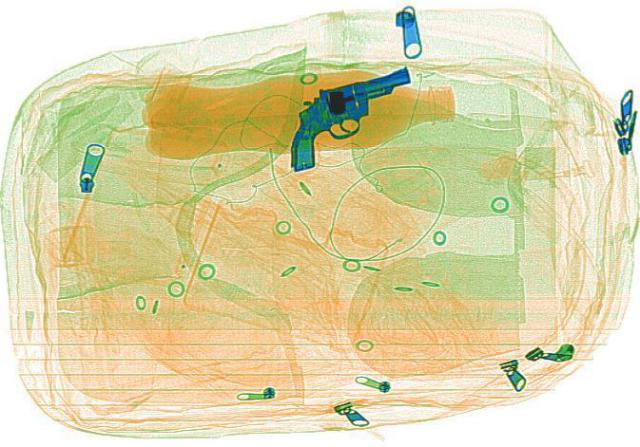Gun: (238, 48, 444, 173)
